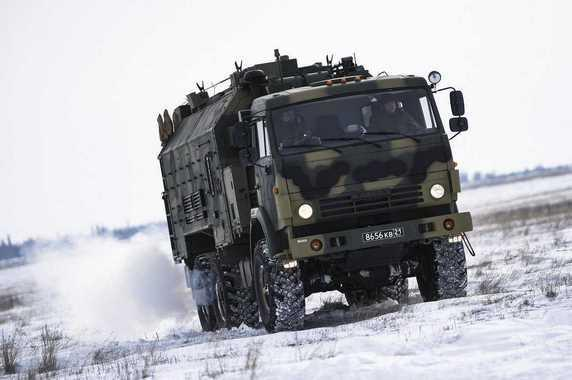truck: (156, 47, 475, 334)
